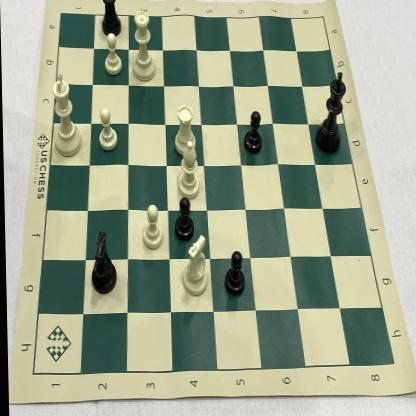black-king: (312, 69, 350, 157)
black-knight: (80, 226, 118, 298)
black-pawn: (221, 249, 247, 298), (171, 192, 196, 242), (240, 108, 264, 158)
black-rook: (98, 0, 125, 41)
white-bishop: (174, 138, 202, 203)
white-king: (46, 68, 84, 161)
white-knight: (178, 232, 212, 298)
white-pawn: (139, 199, 164, 255), (93, 104, 120, 154), (102, 32, 124, 79)
white-queen: (130, 6, 160, 84)
white-rook: (170, 99, 200, 159)
